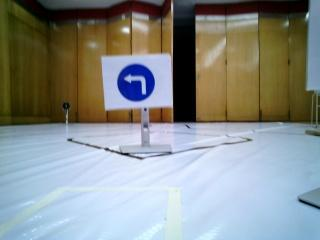left: (102, 55, 171, 105)
